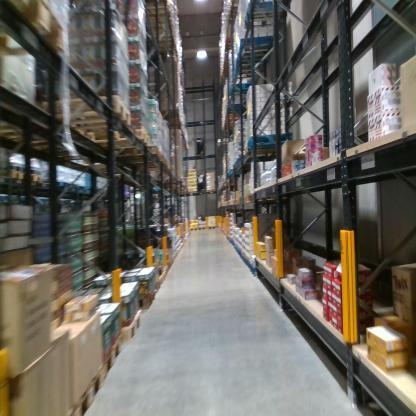pallets: (0, 90, 179, 181), (37, 305, 146, 416)
